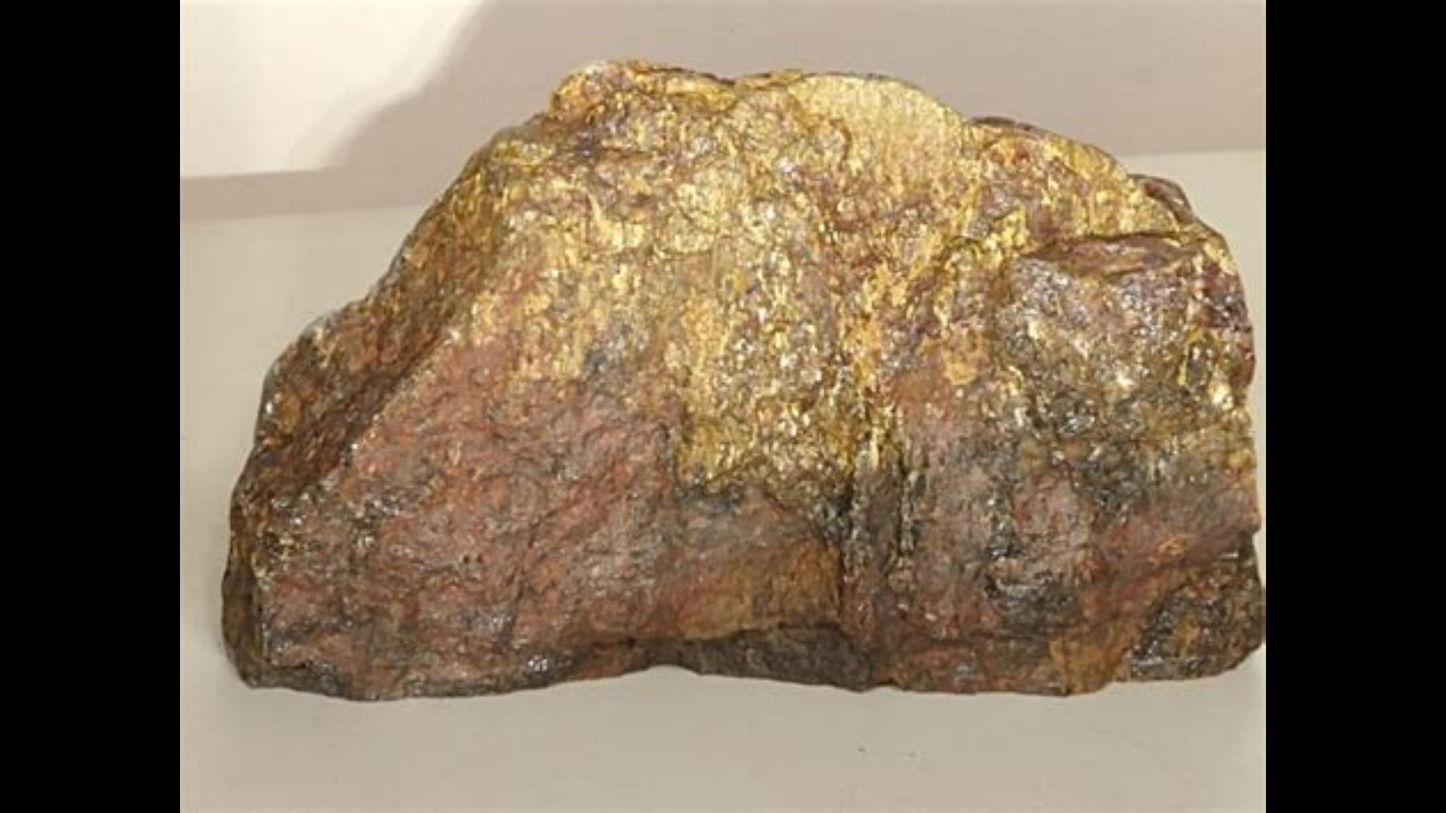rock: (224, 66, 1257, 696)
